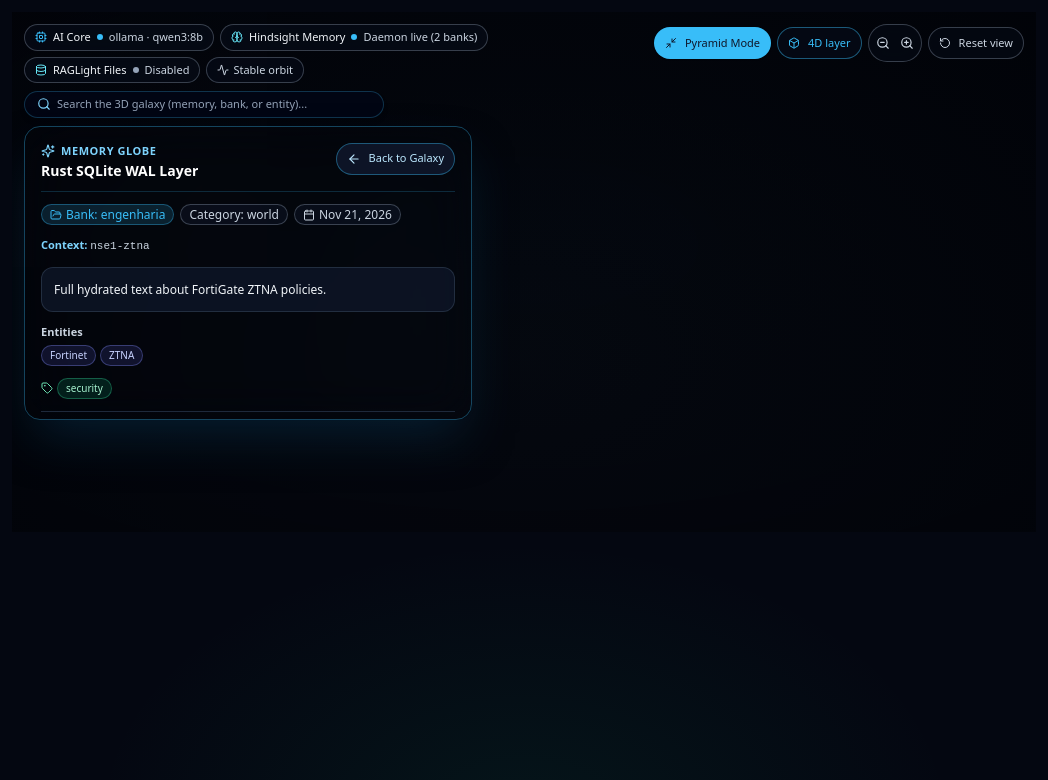
AuraPyramidStation & MemoryGlobeInspector › loads real galaxySnapshot globes, searches and flies to a globe, traverses connected globes, and returns to galaxy
The image size is (1048, 780).
Earlier steps of the test are not shown.
Click the button with test id "back-to-galaxy-btn": (395, 158) [336,142,455,174]
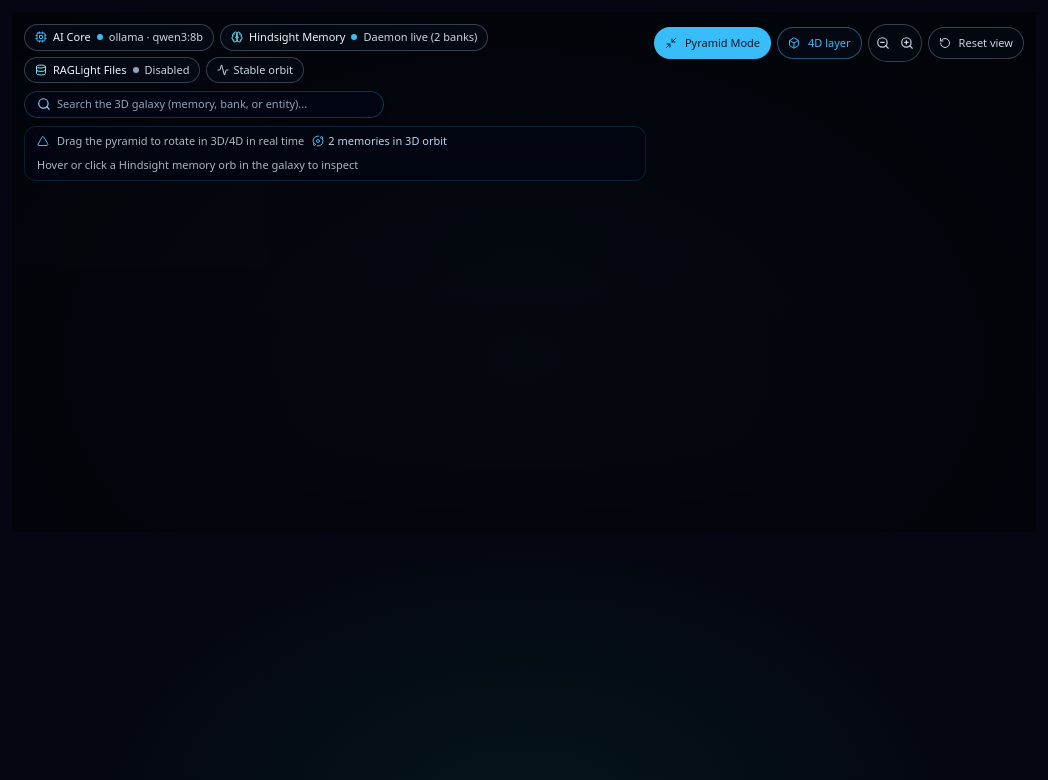
Now the element with test id "memory-globe-inspector" is gone
